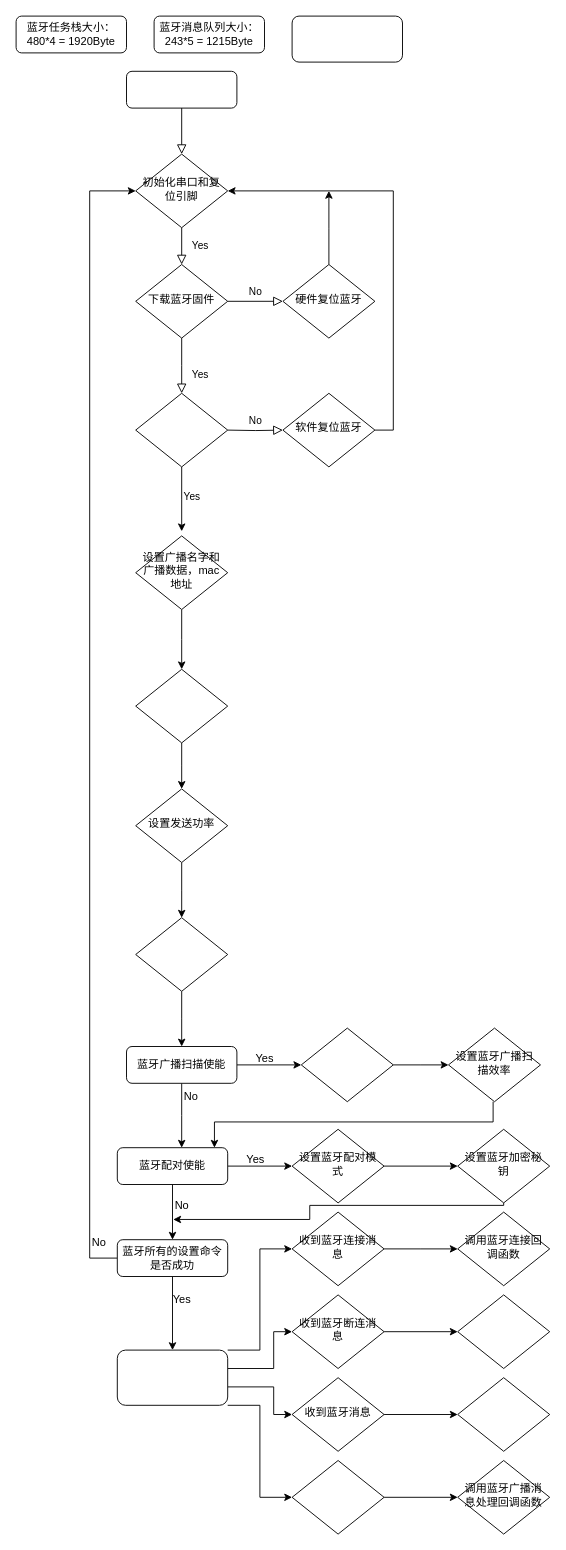
This 566x1550 diagram has some shape labels left out. The centre of each missing label's shape, as x and y in pixels:
"修改波特率" belongs at point 181,429.
"启动蓝牙任务，创建蓝牙消息队列" belongs at point 181,89.
"开启广播" belongs at point 181,705.
"收到蓝牙广播消息" belongs at point 337,1497.
"检测是否收到蓝牙模块消息" belongs at point 172,1377.
"蓝牙使用的静态全局变量大小： 40+24 = 64Byte" belongs at point 346,38.
"设置蓝牙广播扫描参数" belongs at point 346,1064.
"设置蓝牙服务" belongs at point 181,954.
"调用蓝牙断连回调函数" belongs at point 503,1331.
"调用蓝牙消息处理回调函数" belongs at point 503,1414.
